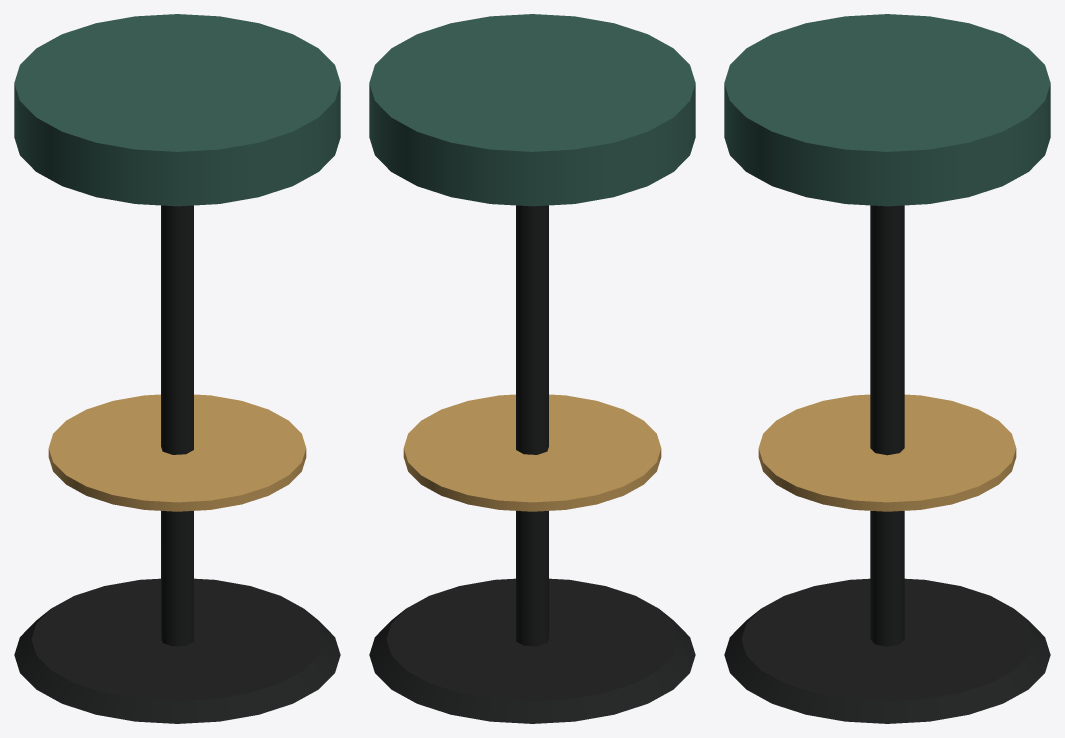
Rendered from Stool_3.glb.
The picture shows the model from 3 angles, left to right: view 1: azimuth 30°, elevation 25°; view 2: azimuth 150°, elevation 25°; view 3: azimuth 270°, elevation 25°; orthographic projection.
Visible parts, largest first — view 1: Stool_3_Upholstery, Stool_3_Black_Metal, Stool_3_Brass; view 2: Stool_3_Upholstery, Stool_3_Black_Metal, Stool_3_Brass; view 3: Stool_3_Upholstery, Stool_3_Black_Metal, Stool_3_Brass.
Boxes of the visible parts, box(x1,y1,x2,y2) form: Stool_3_Upholstery: box(14, 14, 340, 206); Stool_3_Black_Metal: box(14, 205, 340, 723); Stool_3_Brass: box(48, 394, 306, 511); Stool_3_Upholstery: box(369, 14, 695, 206); Stool_3_Black_Metal: box(369, 205, 695, 723); Stool_3_Brass: box(403, 394, 661, 511); Stool_3_Upholstery: box(724, 14, 1050, 206); Stool_3_Black_Metal: box(724, 205, 1050, 723); Stool_3_Brass: box(758, 394, 1016, 511).
Size of the model in its own units: 0.38 by 0.735 by 0.38.
